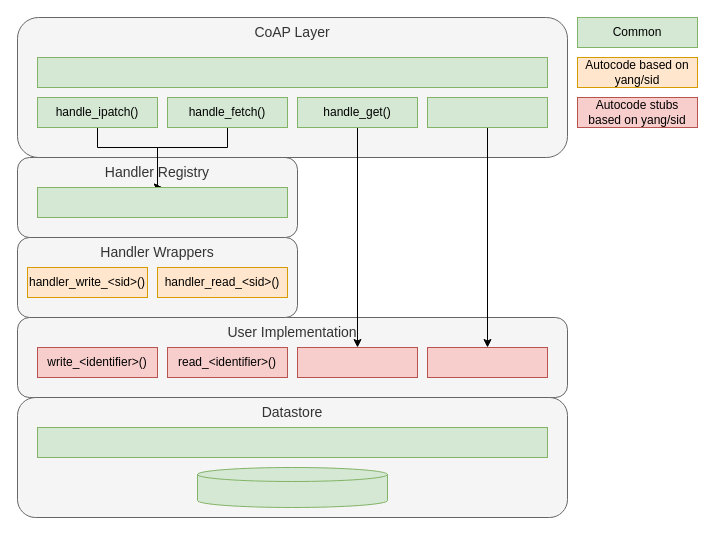
Some shapes in this 715 by 535 pixel diagram are drawn without their labels. Here are the shapes that lost their labels. From the top down, the centre of each, then its label:
the point at 292,72: libcoap
the point at 487,112: handle_put()
the point at 162,202: lookupSidHandler
the point at 357,362: handleGetRequest()
the point at 487,362: handlePutRequest()
the point at 292,442: libccoreconf
the point at 292,487: CoreConfHashmap
